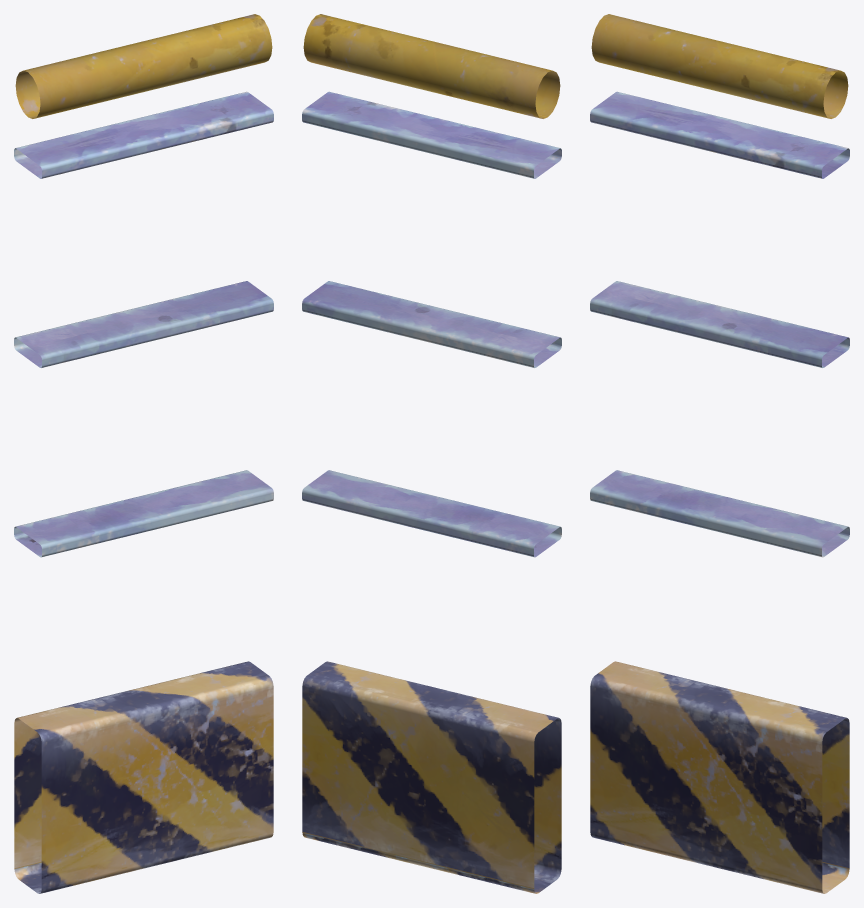
File: SM_Rail_1m.fbx
The picture shows the model from 3 angles, left to right: view 1: azimuth 30°, elevation 25°; view 2: azimuth 150°, elevation 25°; view 3: azimuth 330°, elevation 25°; orthographic projection.
Visible parts, largest first — view 1: SM_Rail_1m; view 2: SM_Rail_1m; view 3: SM_Rail_1m.
Boxes of the visible parts, box(x1,y1,x2,y2) form: SM_Rail_1m: box(14, 14, 273, 893); SM_Rail_1m: box(302, 14, 561, 893); SM_Rail_1m: box(590, 14, 849, 893).
Bounding box in the file's own units: 100 × 336 × 20.94.
